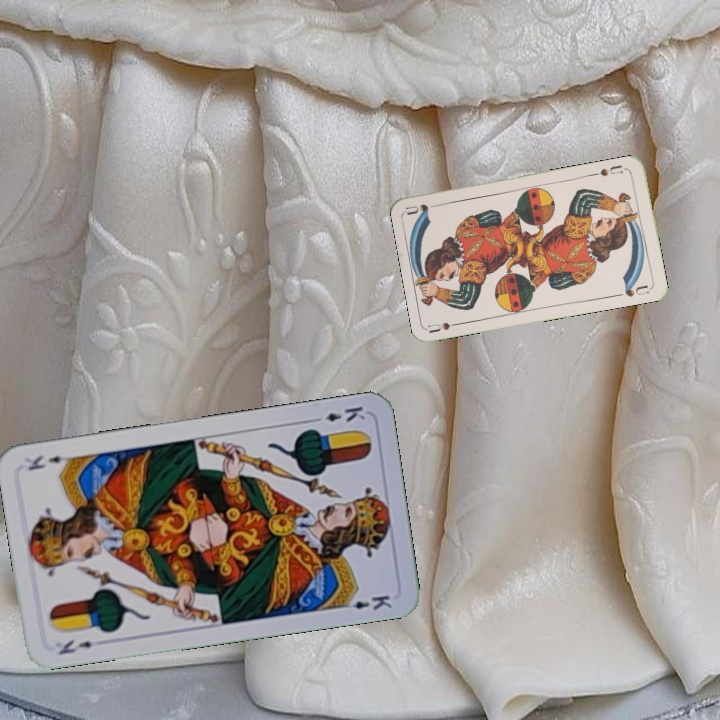EK: (308, 402, 368, 425), (54, 635, 95, 658)
SU: (425, 318, 466, 336), (596, 161, 625, 179)
